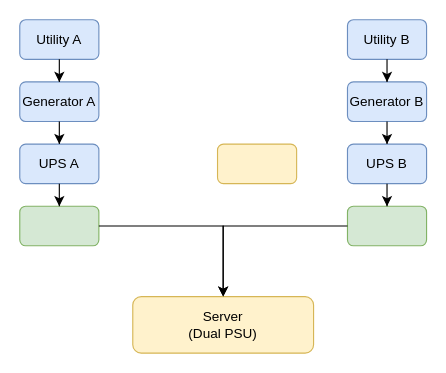
Image size: 446x373. Some labels were removed from this diagram. Each missing label, with the centre of its shape:
"PDU A" goes at point (59, 225).
"PDU B" goes at point (386, 225).
"UPS Backup" goes at point (256, 163).
